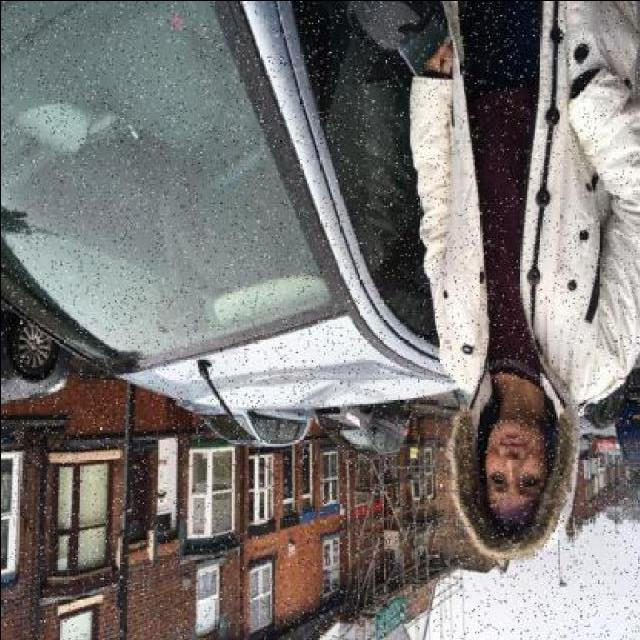roof-dent: (228, 349, 419, 423)
